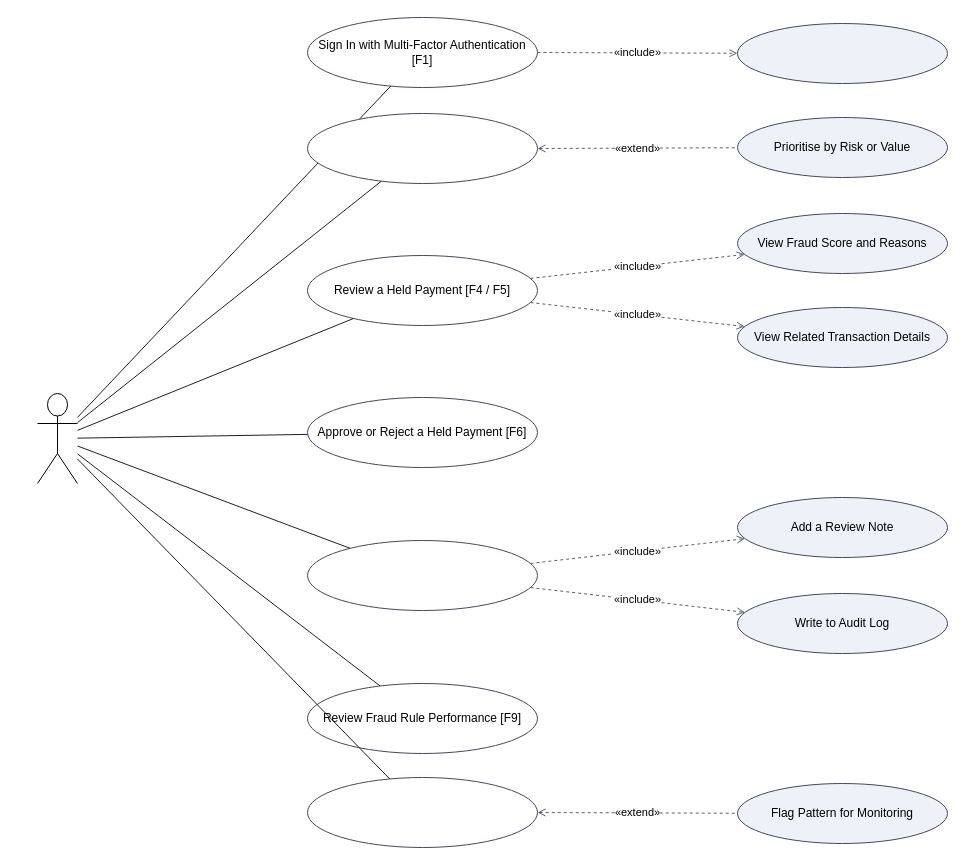
This 965x865 diagram has some shape labels left out. The centre of each missing label's shape, as x and y in pixels:
"Fraud Analyst" belongs at point 57,438.
"Propose or Adjust Fraud Rules and Flag Patterns [F10]" belongs at point 422,812.
"Provide Second Factor" belongs at point 842,53.
"Record the Review Decision [F7 / F8]" belongs at point 422,575.
"View and Prioritise the Review Queue [F2 / F3]" belongs at point 422,148.
